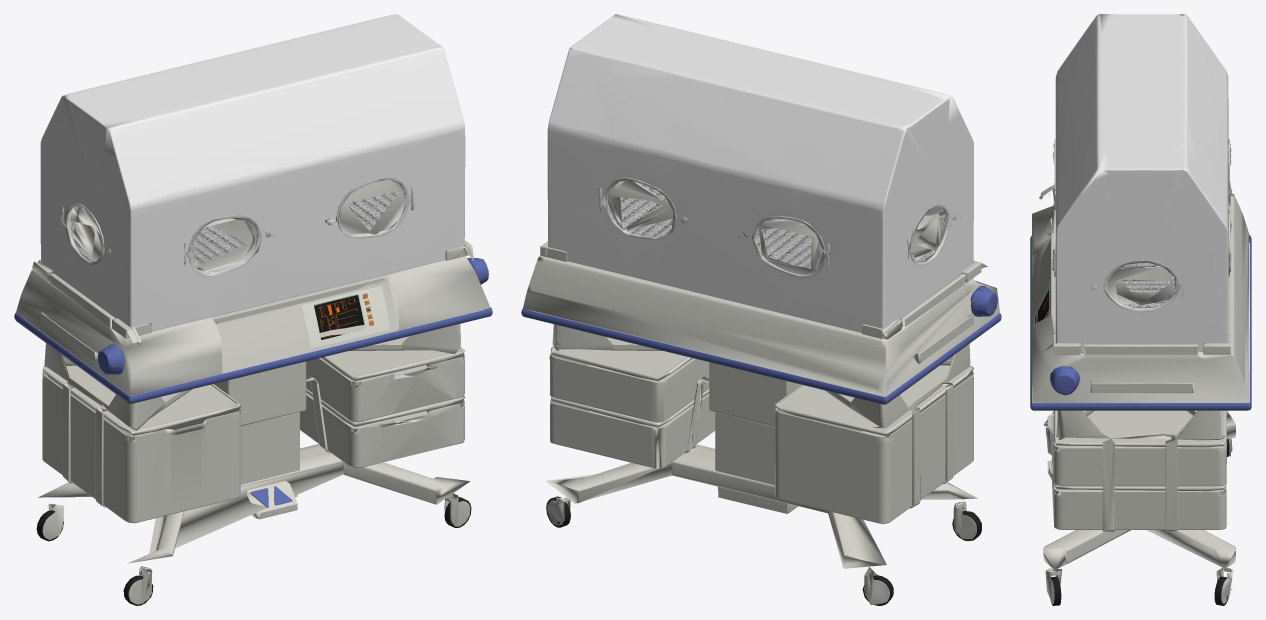
File: lab_device.glb
3 views of the same model, side by side, from view 1: azimuth 30°, elevation 25°; view 2: azimuth 150°, elevation 25°; view 3: azimuth 270°, elevation 25° (orthographic). The views are drawn at different scales.
Parts seen in each view (by area): view 1: Mat3d66_617138_46_742, Mat3d66_617138_45_963, Mat3d66_617138_43_524, Mat3d66_617138_44_43, Mat3d66_617138_42_691, Mat3d66_617138_41_928, Mat3d66_617138_47_638; view 2: Mat3d66_617138_46_742, Mat3d66_617138_45_963, Mat3d66_617138_43_524, Mat3d66_617138_42_691, Mat3d66_617138_41_928, Mat3d66_617138_47_638; view 3: Mat3d66_617138_46_742, Mat3d66_617138_45_963, Mat3d66_617138_43_524, Mat3d66_617138_41_928, Mat3d66_617138_42_691, Mat3d66_617138_47_638, Mat3d66_617138_44_43.
Part boxes in pixels (box(x1,y1,x2,y2)): Mat3d66_617138_46_742: box(40, 14, 465, 331); Mat3d66_617138_45_963: box(16, 180, 490, 604); Mat3d66_617138_43_524: box(14, 257, 492, 507); Mat3d66_617138_44_43: box(301, 286, 390, 349); Mat3d66_617138_42_691: box(74, 191, 399, 265); Mat3d66_617138_41_928: box(61, 177, 412, 277); Mat3d66_617138_47_638: box(36, 497, 471, 605); Mat3d66_617138_46_742: box(547, 14, 973, 332); Mat3d66_617138_45_963: box(523, 180, 999, 604); Mat3d66_617138_43_524: box(521, 286, 1001, 404); Mat3d66_617138_42_691: box(609, 183, 939, 268); Mat3d66_617138_41_928: box(598, 177, 961, 278); Mat3d66_617138_47_638: box(546, 496, 981, 605); Mat3d66_617138_46_742: box(1055, 14, 1228, 351); Mat3d66_617138_45_963: box(1032, 144, 1249, 603); Mat3d66_617138_43_524: box(1030, 204, 1251, 410); Mat3d66_617138_41_928: box(1049, 139, 1234, 312); Mat3d66_617138_42_691: box(1119, 262, 1175, 308); Mat3d66_617138_47_638: box(1051, 438, 1229, 605); Mat3d66_617138_44_43: box(1032, 282, 1049, 338).
Bounding box in the file's own units: 1.2 × 1.39 × 0.6359.
7 materials, 2 textured.
